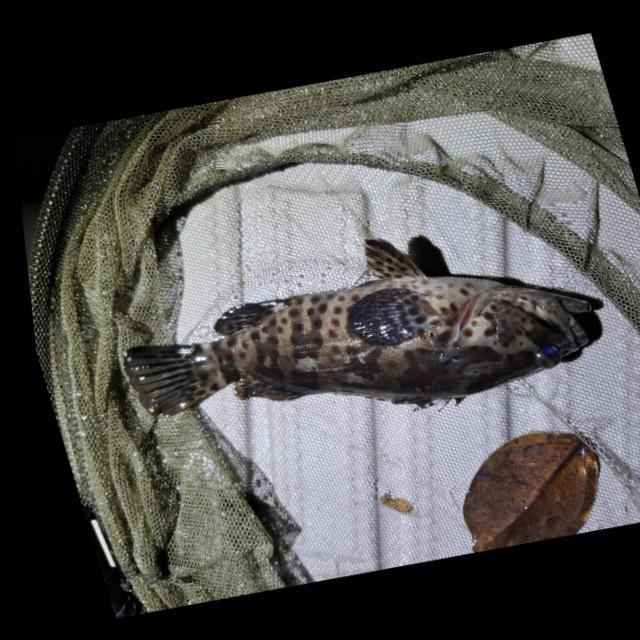Groupers: (93, 197, 623, 459)
